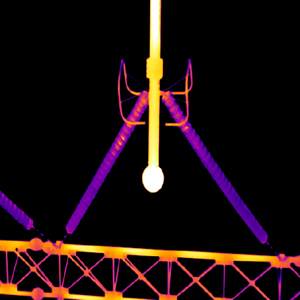insulator: (160, 91, 268, 243), (64, 90, 149, 235), (0, 193, 34, 231)
